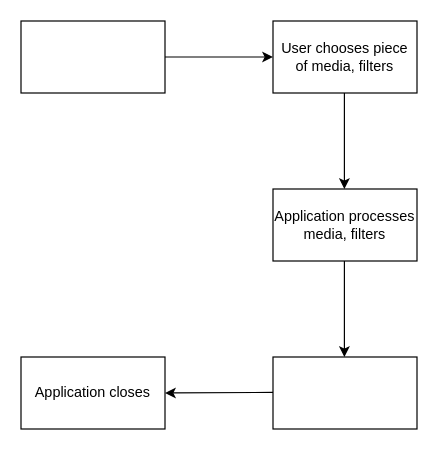
Some shapes in this 438 by 450 pixel diagram are drawn without their labels. The box of each missing label's shape, as (x1, y1, x2, y2) in pixels:
Application returns media, filters: (272, 356, 417, 429)
User opens application: (20, 20, 165, 93)
